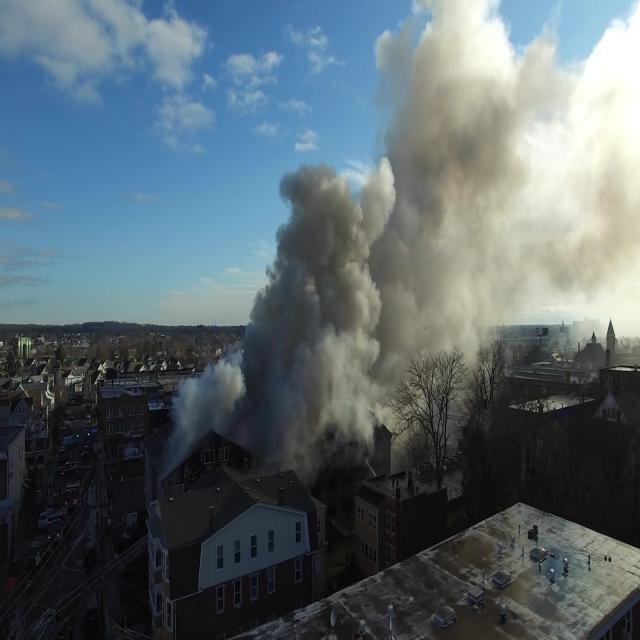Smoke: (178, 29, 618, 490)
